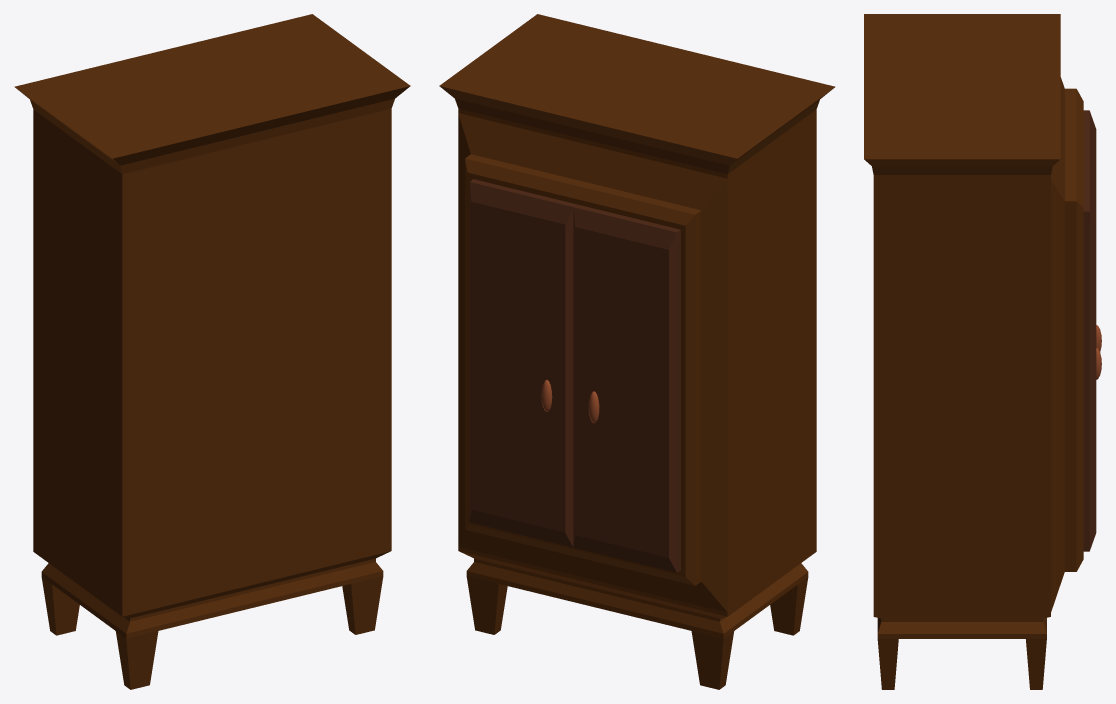
File: armoire.fbx
3 renders of one model, left to right at view 1: azimuth 30°, elevation 25°; view 2: azimuth 150°, elevation 25°; view 3: azimuth 270°, elevation 25°, orthographic.
Visible parts, largest first — view 1: Cube; view 2: Cube, Roundcube.001, Cube.001; view 3: Cube, Cube.001, Roundcube.001.
Boxes of the visible parts, x1=… form: Cube: x1=14, y1=14, x2=410, y2=689; Cube: x1=439, y1=14, x2=835, y2=689; Roundcube.001: x1=573, y1=204, x2=680, y2=572; Cube.001: x1=469, y1=179, x2=576, y2=547; Cube: x1=864, y1=14, x2=1083, y2=689; Cube.001: x1=1083, y1=161, x2=1101, y2=551; Roundcube.001: x1=1083, y1=110, x2=1101, y2=351.
Size of the model in its own units: 288 by 502 by 199.
